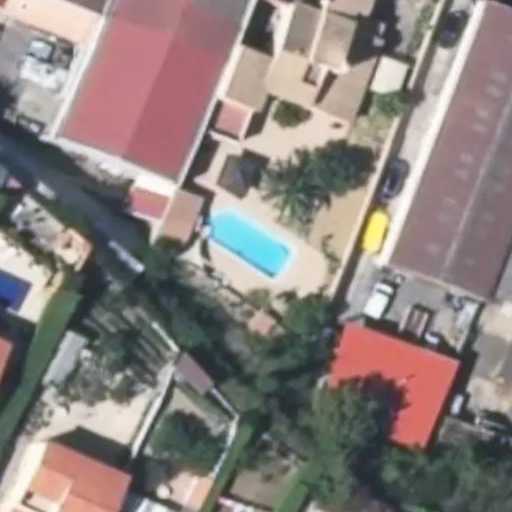pool: (204, 230, 300, 249)
